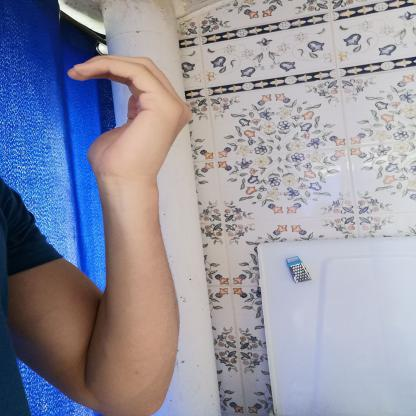HAA: (52, 45, 201, 191)
